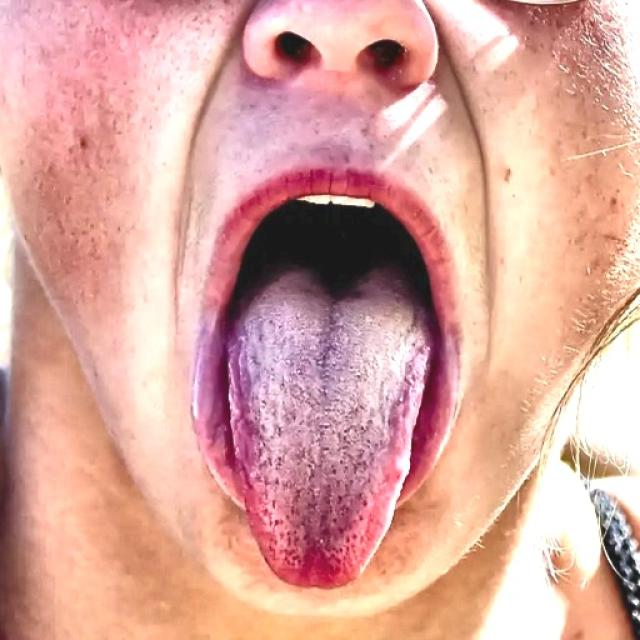leukoplakia-like-detection: (240, 272, 423, 560)
processing_area: (226, 263, 433, 594)
